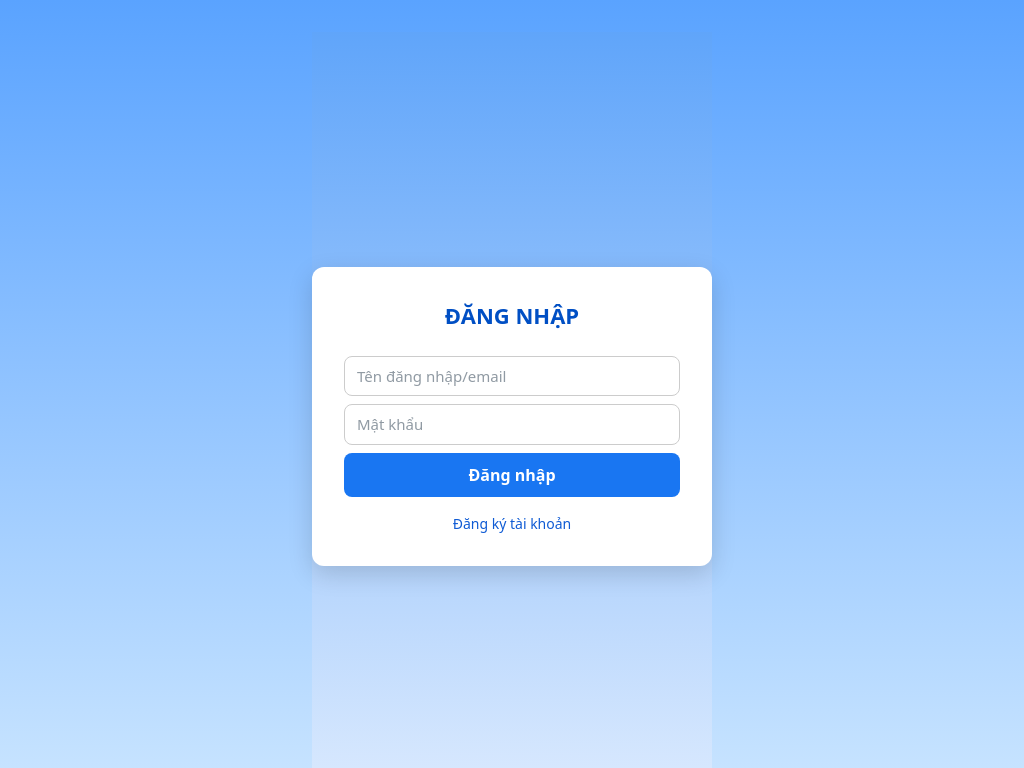
it: Login E2E Test › TC4: hiện thông báo lỗi khi đăng nhập sai thông tin
The image size is (1024, 768).
Type "wronguser" into the field with test id "username-input" at (512,377), box [344,356,680,397]
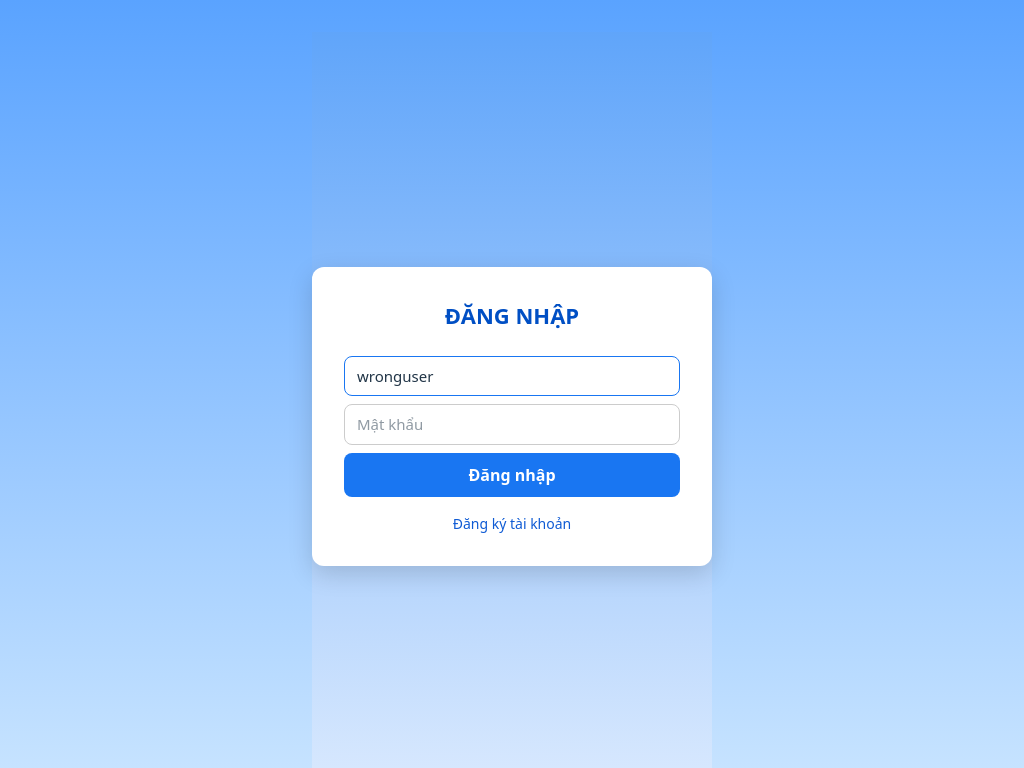
Type "wrongpass123" into the password field with test id "password-input" at (512,425), box [344,404,680,445]
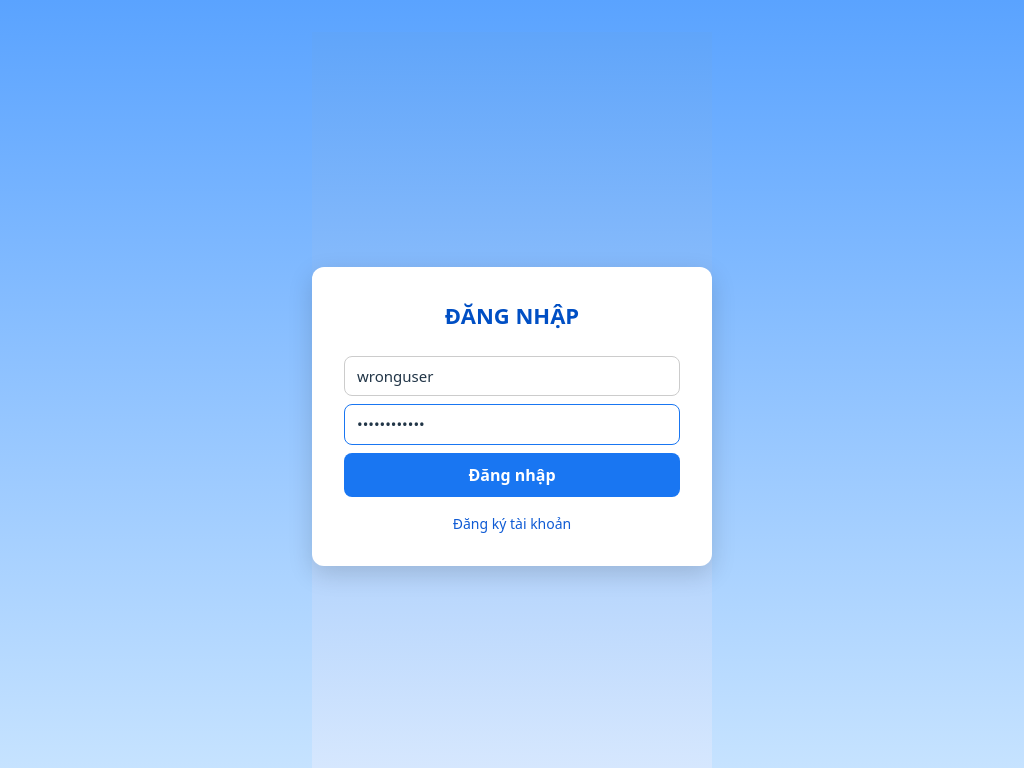
Click the button with test id "login-btn" at (512,475), box [344,453,680,497]
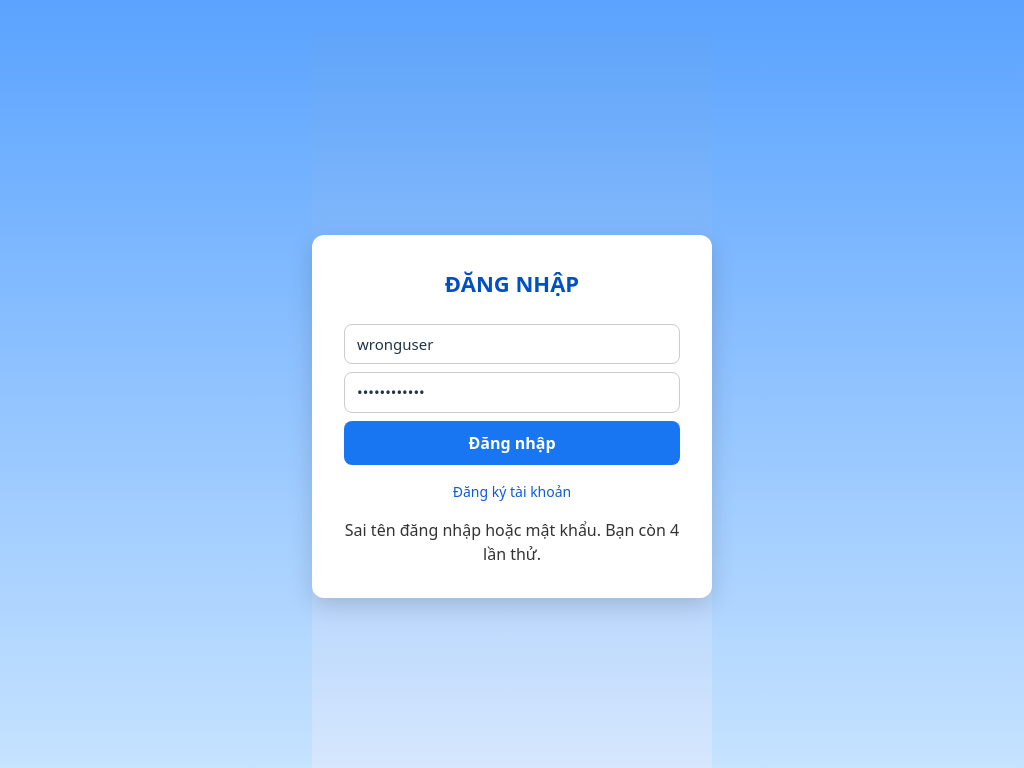
Check: the text with test id "message" shows "Sai tên đăng nhập hoặc mật khẩu", box [344,518,680,566]
